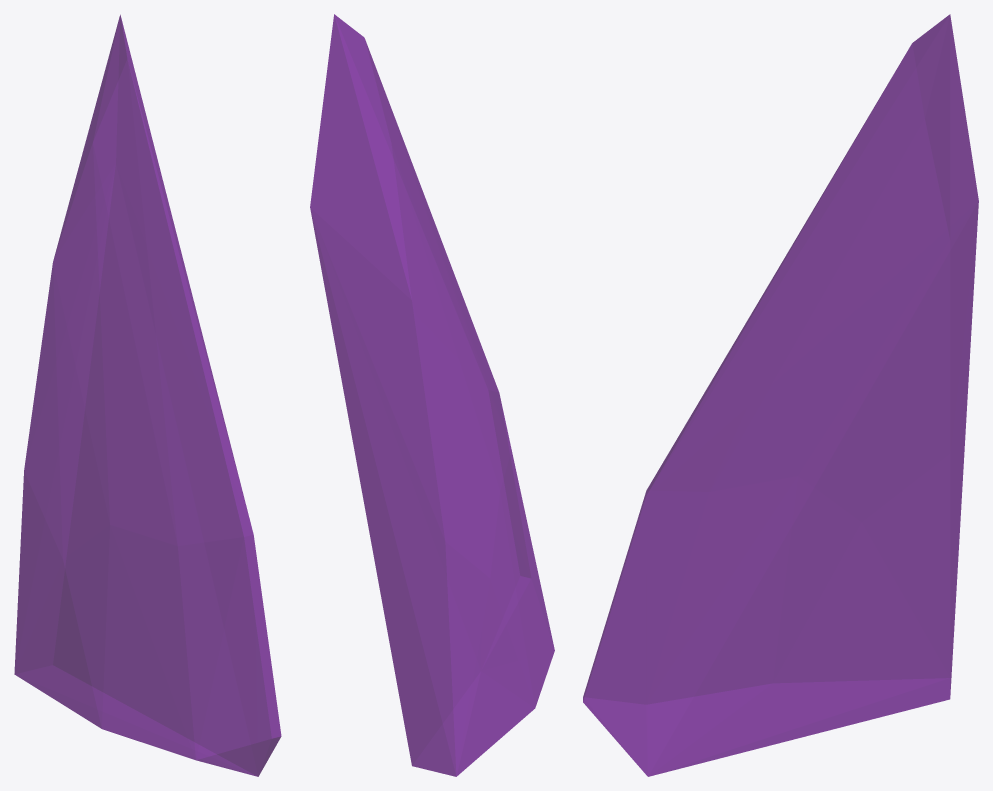
The picture shows the model from 3 angles, left to right: view 1: azimuth 30°, elevation 25°; view 2: azimuth 150°, elevation 25°; view 3: azimuth 270°, elevation 25°; orthographic projection. The views are drawn at different scales.
Visible parts, largest first — view 1: Shape_IndexedFaceSet.036_Shape_IndexedFaceSet.2001; view 2: Shape_IndexedFaceSet.036_Shape_IndexedFaceSet.2001; view 3: Shape_IndexedFaceSet.036_Shape_IndexedFaceSet.2001.
Part boxes in pixels (box(x1,y1,x2,y2)): Shape_IndexedFaceSet.036_Shape_IndexedFaceSet.2001: box(14, 14, 281, 776); Shape_IndexedFaceSet.036_Shape_IndexedFaceSet.2001: box(310, 14, 554, 776); Shape_IndexedFaceSet.036_Shape_IndexedFaceSet.2001: box(583, 14, 978, 776).
Bounding box in the file's own units: 0.0631 × 0.3522 × 0.1663.
